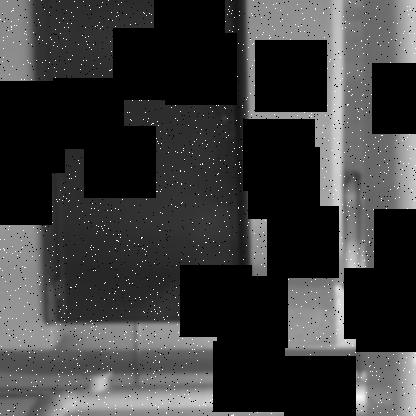Porte: (34, 1, 252, 325)
